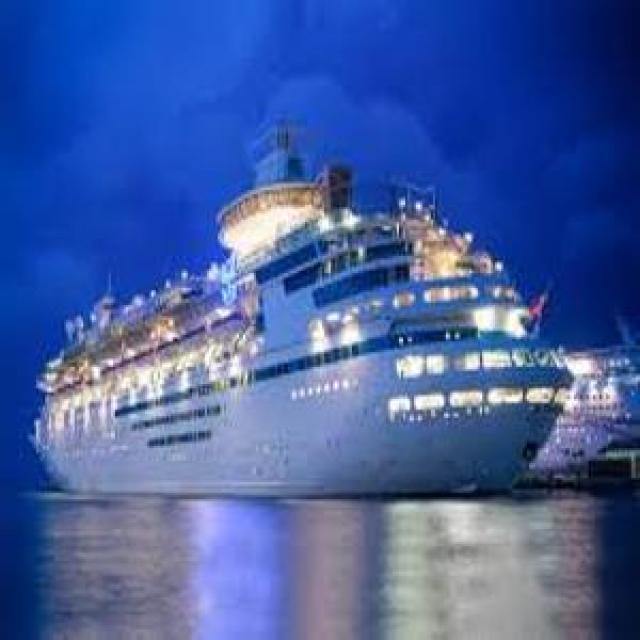passenger ship: (23, 121, 561, 489)
